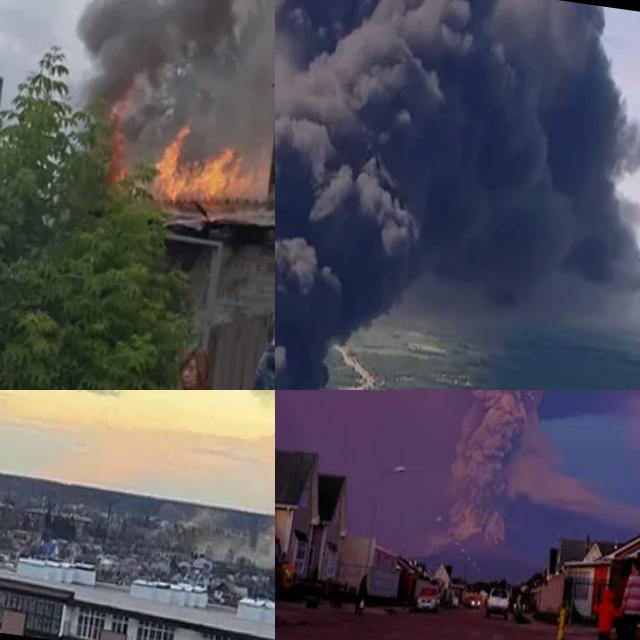smoke: (275, 0, 640, 390), (67, 0, 275, 246), (400, 390, 581, 548), (172, 390, 275, 593)
